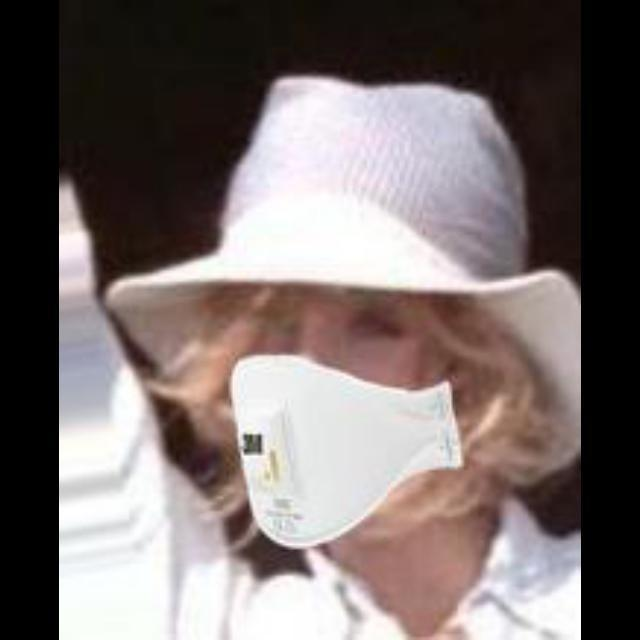suspicion: (175, 158, 577, 624)
